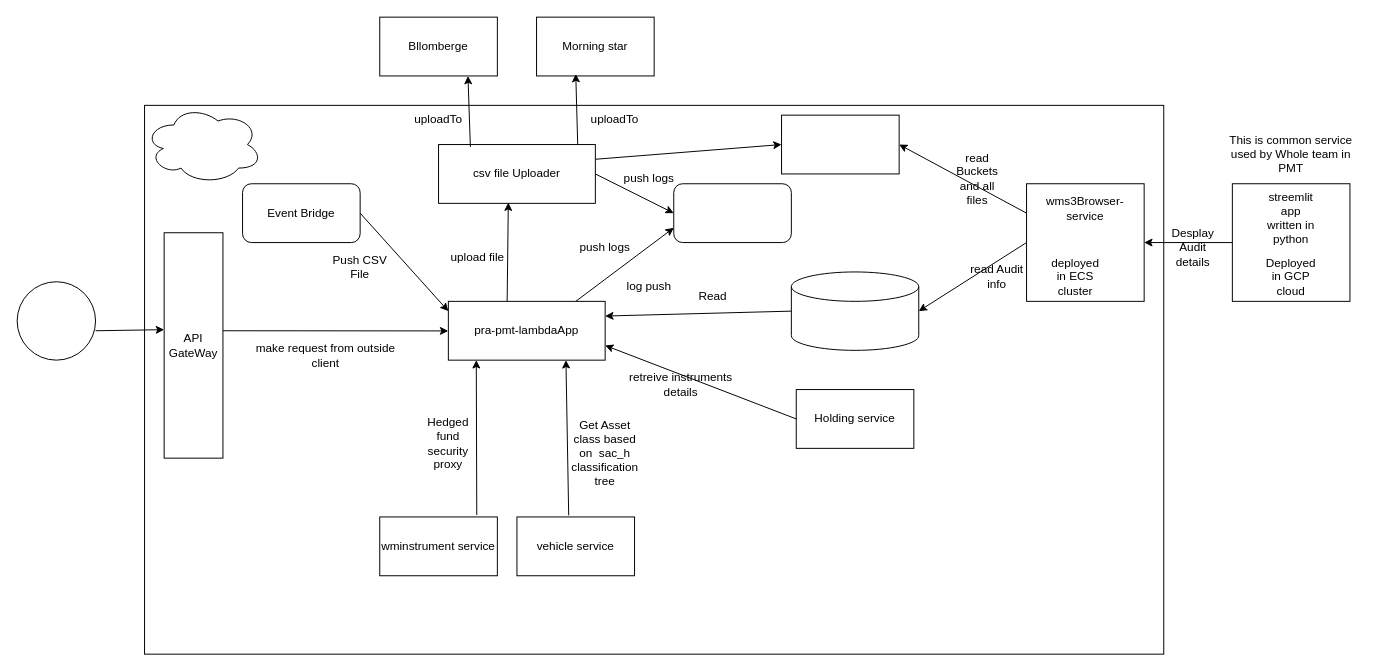
The diagram is 1377 pixels wide and 671 high, and some of its shapes have lost their labels. The centre of each missing label's shape, as x and y in pixels:
any client: (x=56, y=320)
Aurora DB: (x=854, y=310)
AWS Cloud: (x=203, y=144)
cloud cwatch: (x=732, y=213)
S3: (x=840, y=144)
